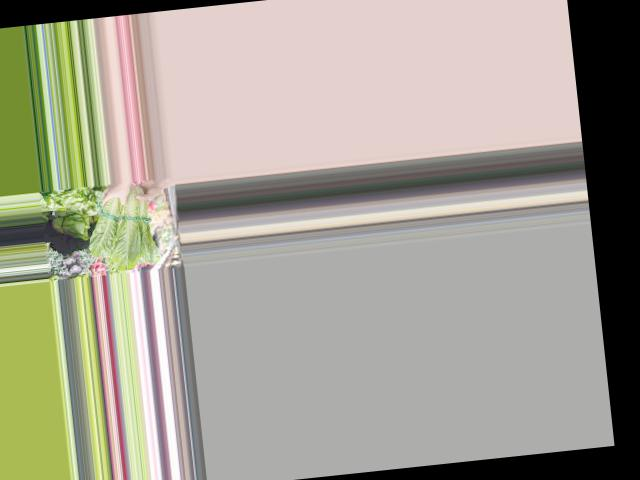lettuce: (81, 179, 157, 270)
